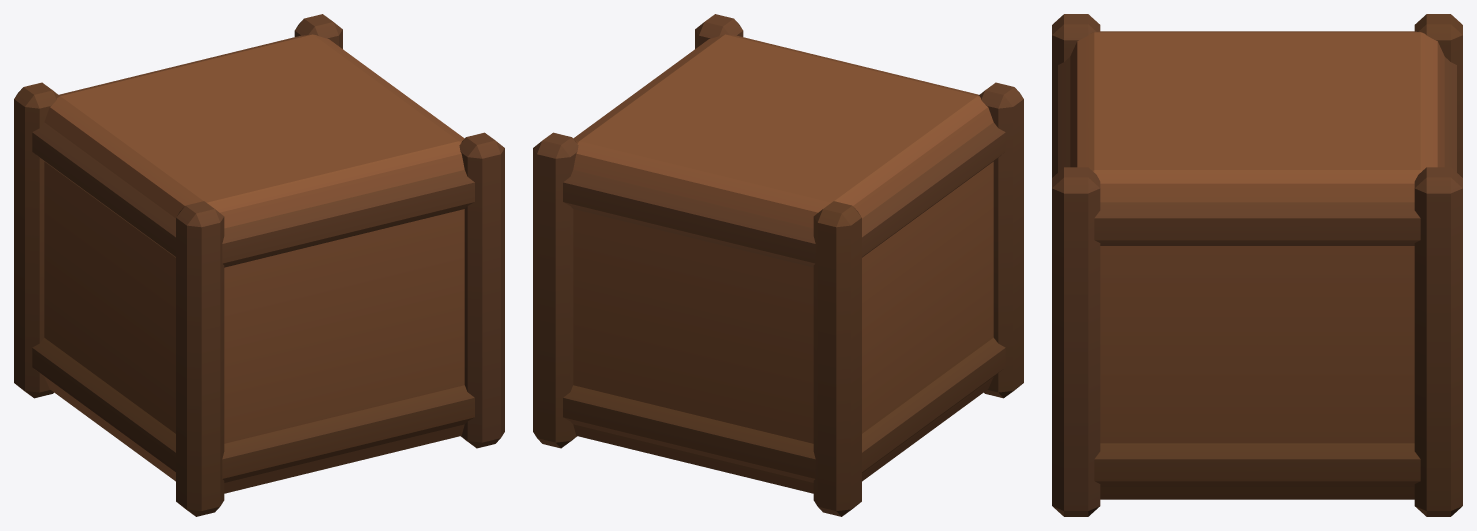
File: crate.glb
3 renders of one model, left to right at view 1: azimuth 30°, elevation 25°; view 2: azimuth 150°, elevation 25°; view 3: azimuth 270°, elevation 25°, orthographic. The views are drawn at different scales.
Parts seen in each view (by area): view 1: crate; view 2: crate; view 3: crate.
Boxes of the visible parts, left/top/right/bottom form: crate: left=14, top=14, right=504, bottom=516; crate: left=533, top=14, right=1023, bottom=516; crate: left=1052, top=14, right=1462, bottom=516.
Bounding box in the file's own units: 0.68 × 0.62 × 0.68.
